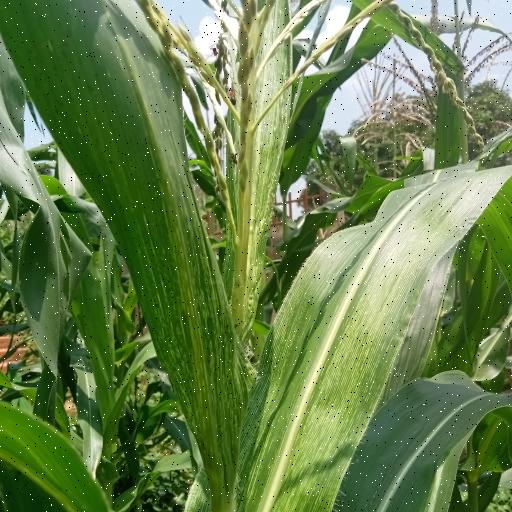Corn_Streak: (17, 0, 248, 504), (219, 166, 512, 502)
